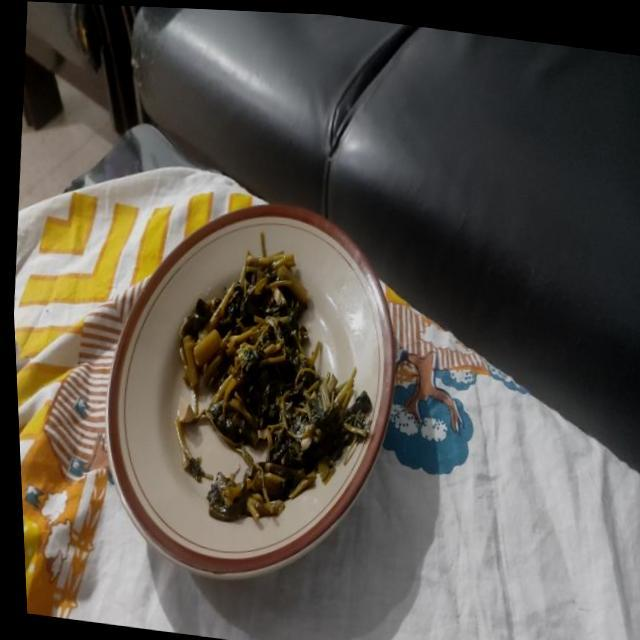tumis_kangkung: (180, 251, 371, 519)
